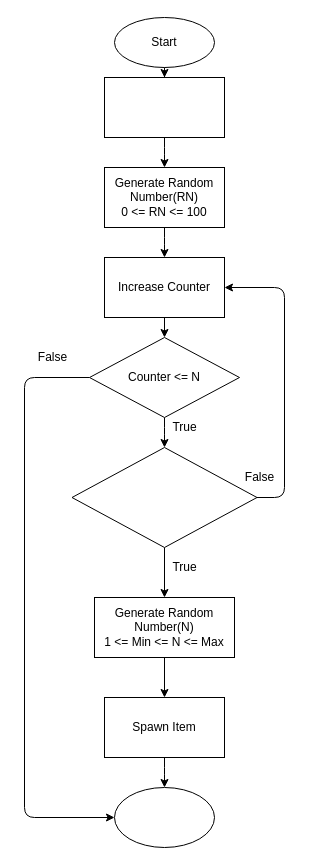
Some shapes in this 310 by 865 pixel diagram are drawn without their labels. Here are the shapes that lost their labels. From the top down, the centre of each, then its label:
At point 164,107: "List<Item> ItemList".
At point 164,497: "RN <= Item(N).Drop Change".
At point 164,817: "End".
